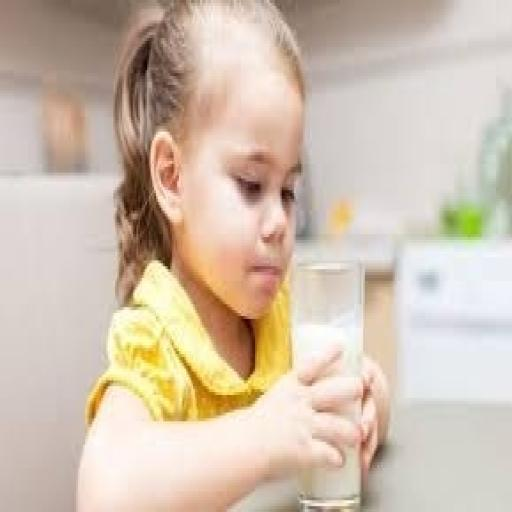drinking: (292, 255, 365, 509)
